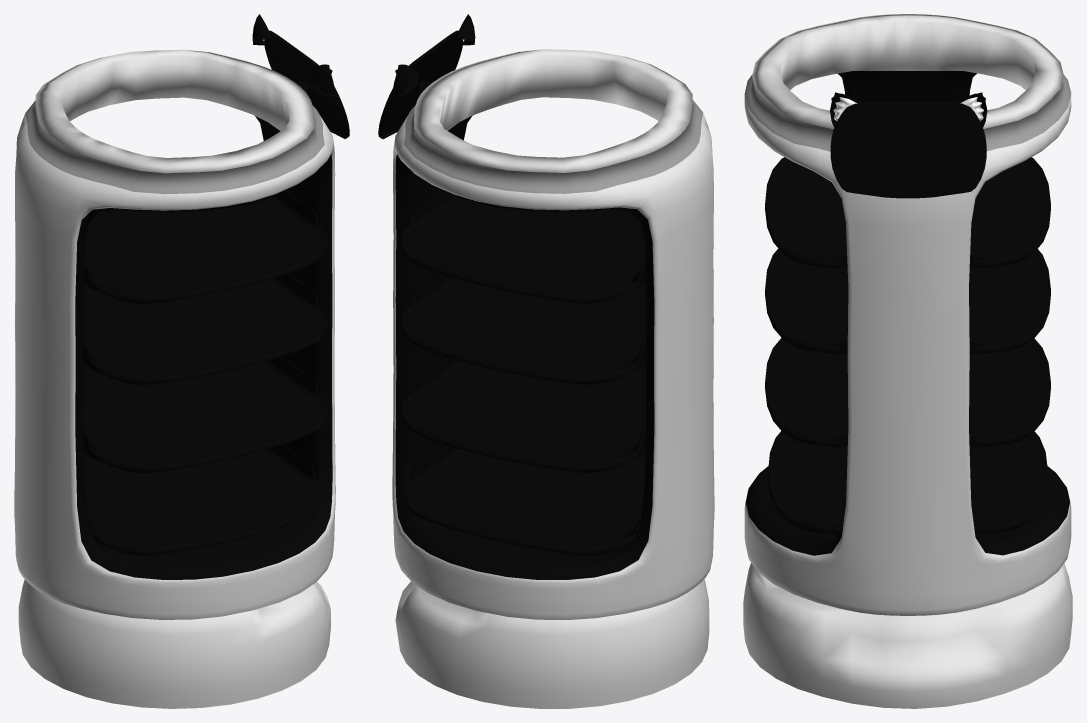
Rendered from cat.glb.
3 views of the same model, side by side, from view 1: azimuth 30°, elevation 25°; view 2: azimuth 150°, elevation 25°; view 3: azimuth 270°, elevation 25° (orthographic). The views are drawn at different scales.
Parts seen in each view (by area): view 1: Cat Cylinder, Cat Base, Face; view 2: Cat Cylinder, Cat Base, Face; view 3: Cat Cylinder, Cat Base, Face.
Boxes of the visible parts, x1,y1,x2,y2 form: Cat Cylinder: (14,49,335,619); Cat Base: (18,579,330,708); Face: (252,14,349,138); Cat Cylinder: (392,49,714,619); Cat Base: (395,579,709,708); Face: (378,14,475,139); Cat Cylinder: (744,14,1071,615); Cat Base: (743,562,1072,708); Face: (830,92,987,198).
Bounding box in the file's own units: 1.9 × 3.64 × 1.79.
5 materials, 1 textured.
